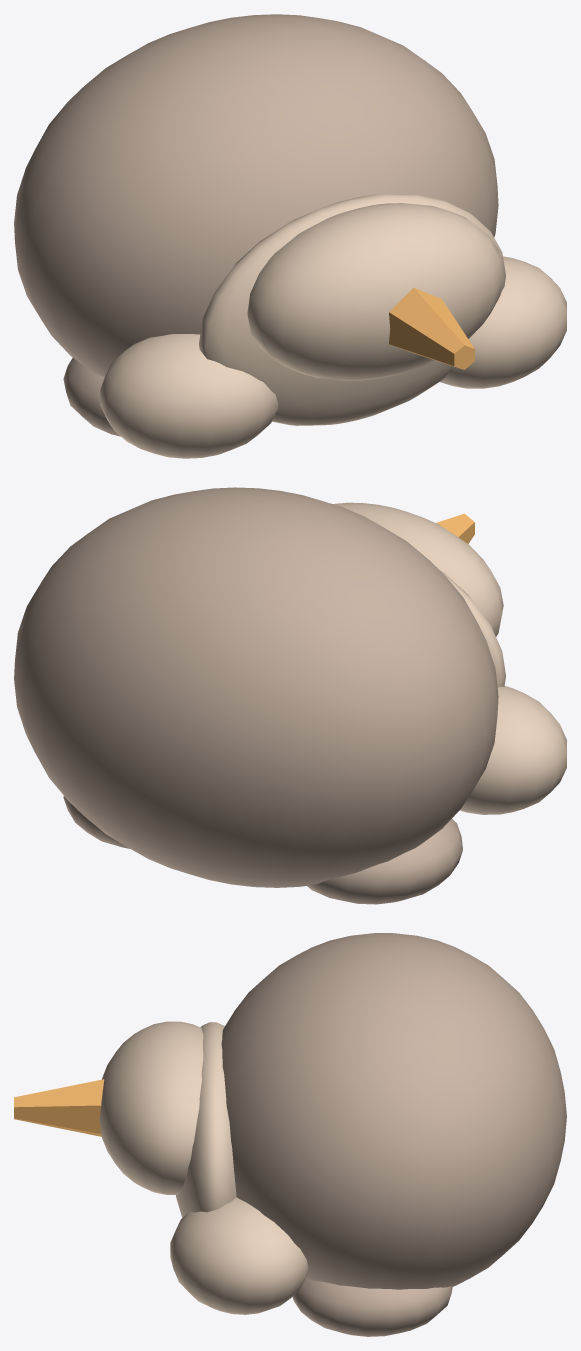
The model's file is drill-nose-mole.glb.
The picture shows the model from 3 angles, top to bottom: view 1: azimuth 30°, elevation 25°; view 2: azimuth 150°, elevation 25°; view 3: azimuth 270°, elevation 25°; orthographic projection. The views are drawn at different scales.
Visible parts, largest first — view 1: Body, Muzzle, Paw_L, Belly, Paw_R, DrillNose, Foot_L; view 2: Body, Paw_L, Foot_L, Muzzle, Belly, Foot_R, DrillNose; view 3: Body, Muzzle, Paw_R, Belly, Foot_R, DrillNose.
Boxes of the visible parts, x1,y1,x2,y2 form: Body: (14,14,498,376); Muzzle: (247,203,503,380); Paw_L: (100,334,278,458); Belly: (199,194,505,425); Paw_R: (440,256,566,388); DrillNose: (389,287,474,369); Foot_L: (63,358,120,436); Body: (14,487,498,887); Paw_L: (460,686,566,814); Foot_L: (307,819,462,904); Muzzle: (333,502,503,636); Belly: (440,570,505,687); Foot_R: (63,796,129,848); DrillNose: (436,513,474,543); Body: (221,933,566,1289); Muzzle: (99,1021,203,1194); Paw_R: (170,1197,308,1314); Belly: (176,1022,236,1217); Foot_R: (292,1278,452,1336); DrillNose: (14,1079,104,1136).
Bounding box in the file's own units: 0.7545 × 0.575 × 0.9062.
